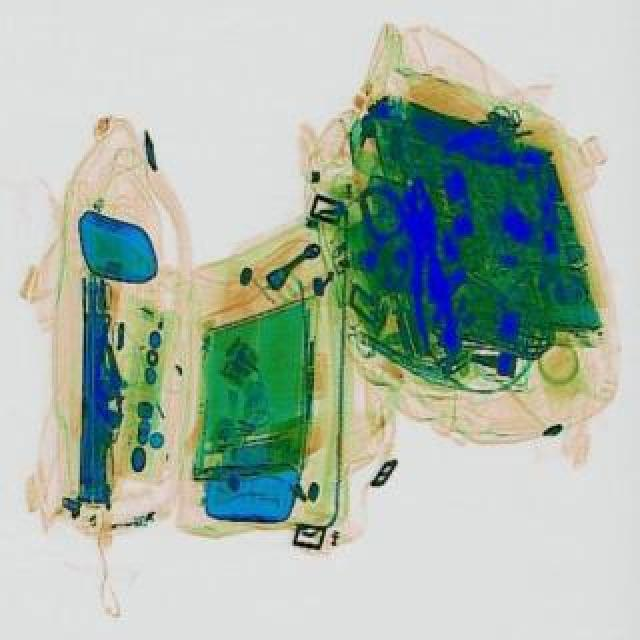wrench: (396, 178, 464, 354)
